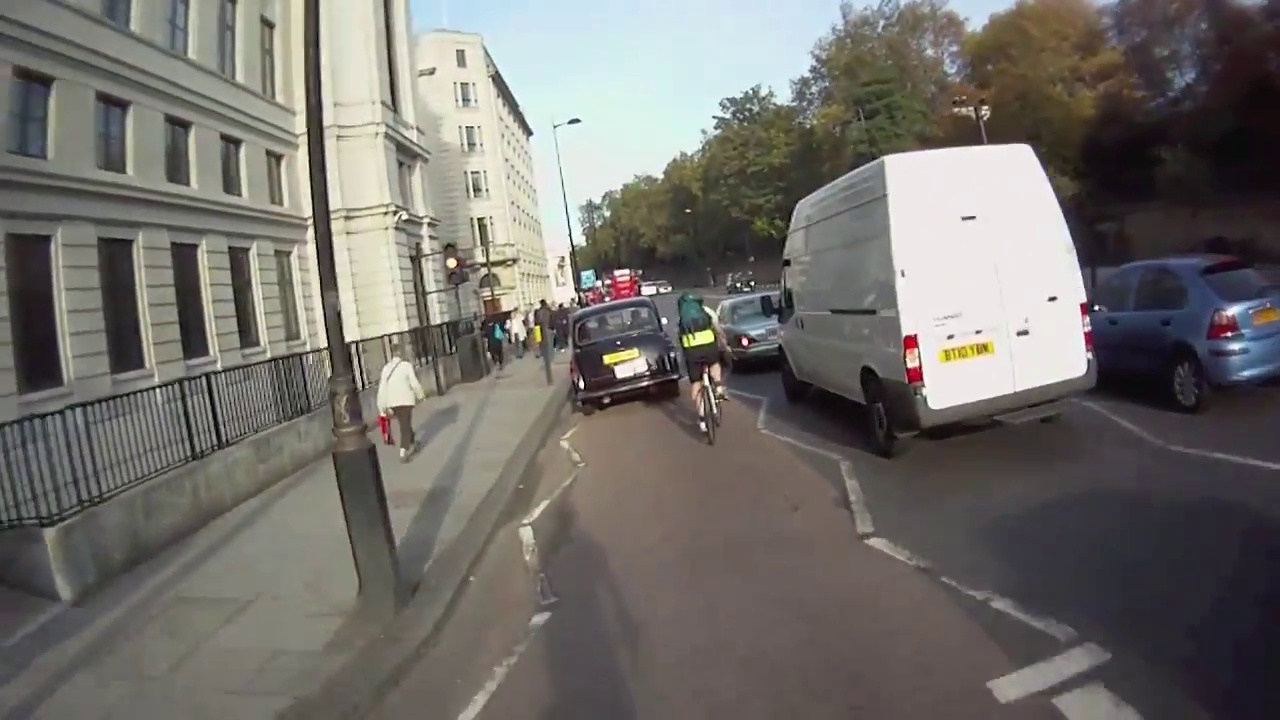cyclist_back: (661, 281, 734, 458)
